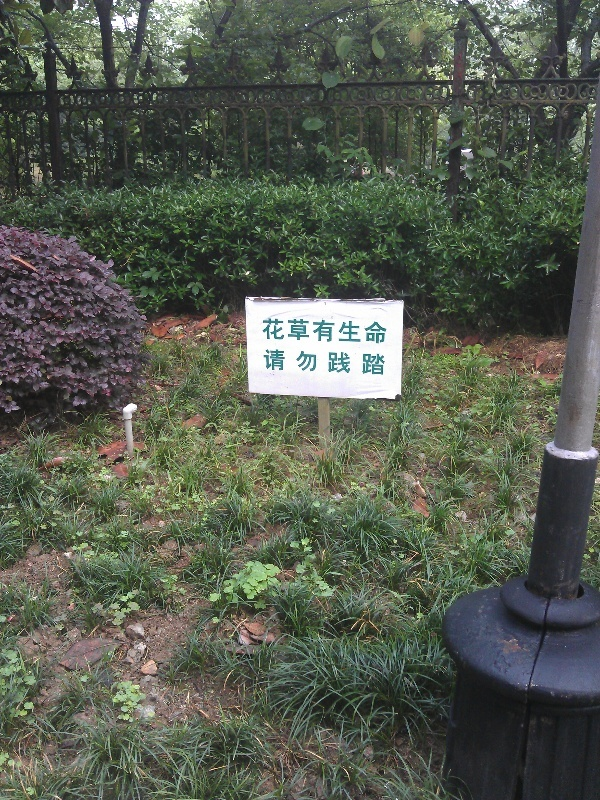text: (273, 316, 288, 345), (289, 316, 304, 345), (305, 316, 320, 345), (321, 316, 336, 345), (337, 316, 352, 345), (353, 316, 368, 345), (369, 316, 384, 345), (273, 347, 288, 376), (289, 347, 304, 376), (305, 347, 320, 376), (321, 347, 336, 376), (337, 347, 352, 376), (353, 347, 368, 376), (369, 347, 384, 376), (262, 316, 272, 345), (263, 347, 272, 376), (385, 316, 388, 345), (385, 347, 386, 376)
